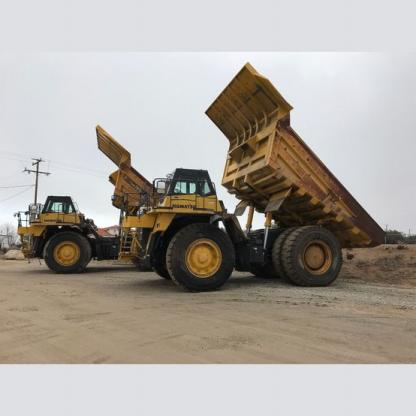dump_truck: (152, 58, 387, 288), (25, 113, 158, 278)
